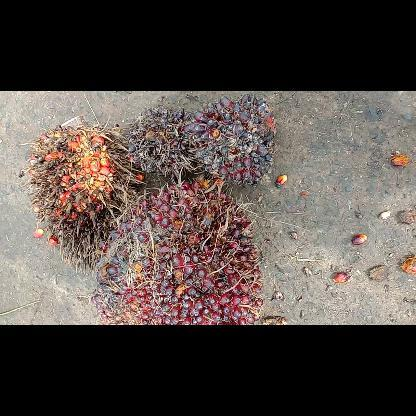TBS abnormal: (188, 96, 280, 190), (124, 104, 200, 182)
TBS masak: (89, 180, 267, 324)
Terlalu masak: (20, 112, 136, 276)
